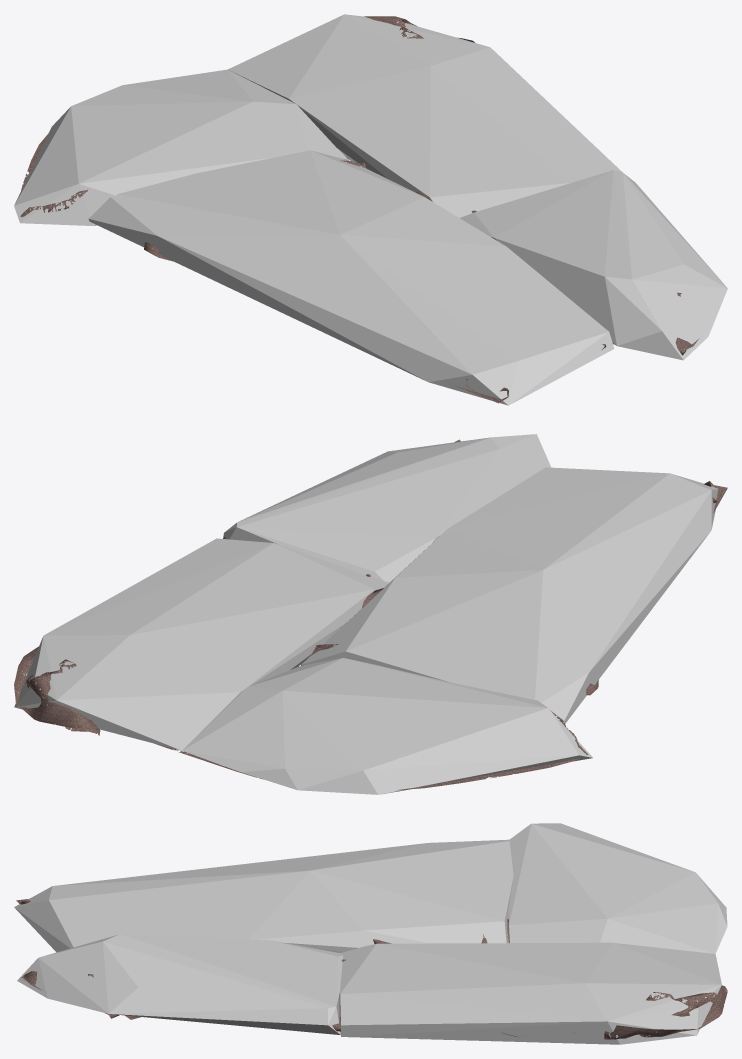
Rendered from SM_Fabric_floor_02.fbx.
The picture shows the model from 3 angles, top to bottom: view 1: azimuth 30°, elevation 25°; view 2: azimuth 150°, elevation 25°; view 3: azimuth 270°, elevation 25°; orthographic projection. The views are drawn at different scales.
Parts seen in each view (by area): view 1: SM_Fabric_floor_02_ConvexHulls, SM_Fabric_floor_02; view 2: SM_Fabric_floor_02_ConvexHulls, SM_Fabric_floor_02; view 3: SM_Fabric_floor_02_ConvexHulls, SM_Fabric_floor_02.
Part boxes in pixels (x1,y1,x2,y2): SM_Fabric_floor_02_ConvexHulls: (14,14,727,405); SM_Fabric_floor_02: (20,16,699,403); SM_Fabric_floor_02_ConvexHulls: (14,434,718,794); SM_Fabric_floor_02: (14,439,727,790); SM_Fabric_floor_02_ConvexHulls: (14,823,727,1044); SM_Fabric_floor_02: (16,899,727,1039).
Size of the model in its own units: 130 by 183 by 11.51.
Materials: 2 (1 with a texture image).
